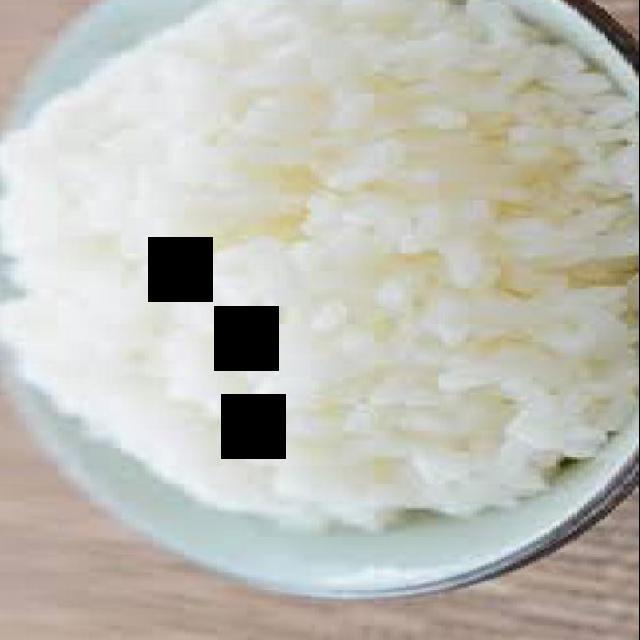Chicken -Chicken Inasal-: (77, 0, 639, 531)
